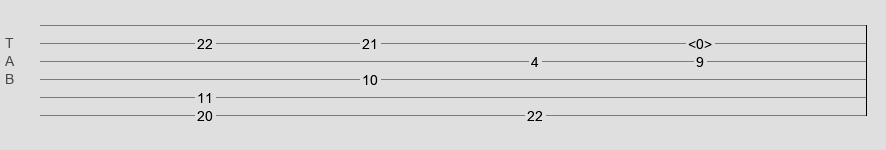10: (362, 72, 378, 82)
11: (197, 90, 213, 100)
20: (197, 108, 213, 118)
21: (362, 36, 378, 46)
22: (197, 36, 213, 46), (527, 108, 543, 118)
4: (531, 54, 539, 64)
9: (696, 54, 704, 64)
harmonic: (688, 36, 712, 46)
